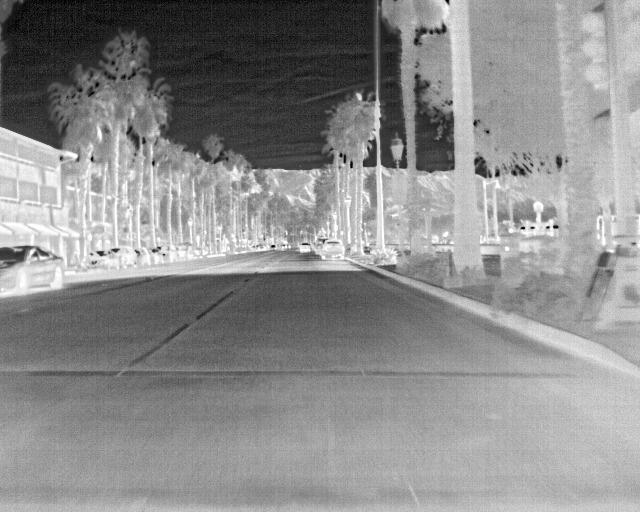car: (0, 244, 68, 294), (90, 249, 119, 271), (111, 245, 133, 271), (322, 239, 343, 258), (132, 245, 149, 268), (148, 249, 164, 267), (299, 242, 312, 254)
